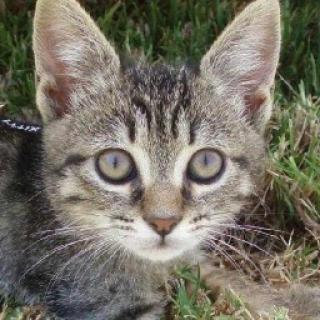cat: (28, 0, 292, 266)
nose: (139, 188, 186, 237)
